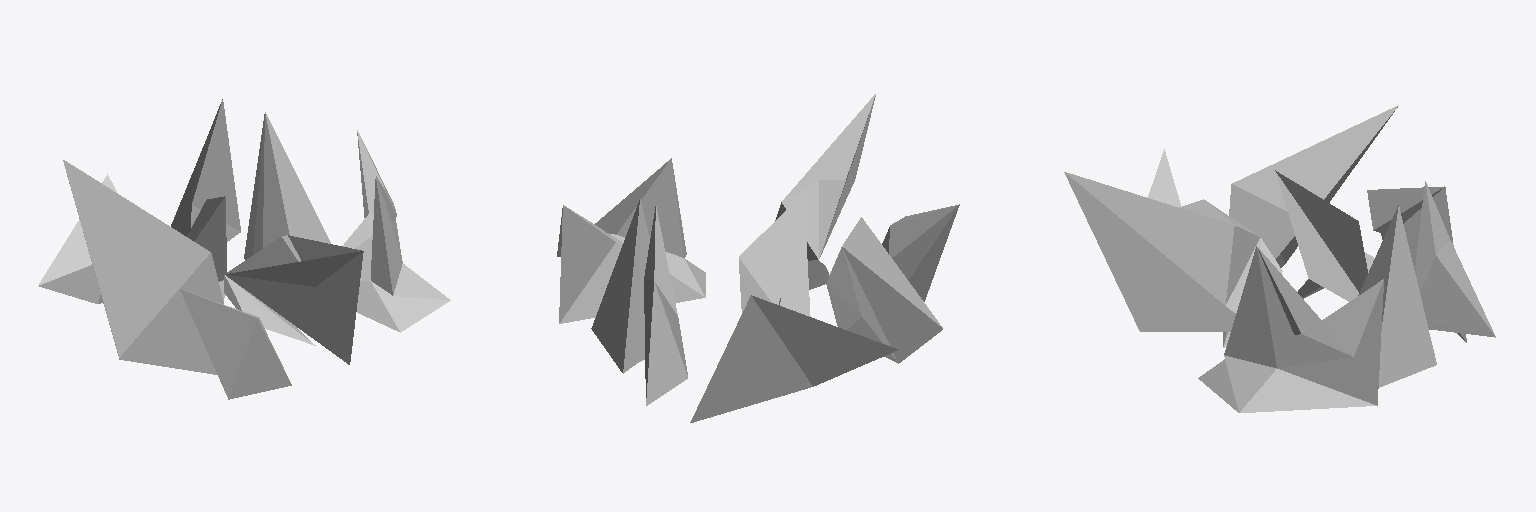
Rendered from glass_spikes.obj.
3 renders of one model, left to right at view 1: azimuth 30°, elevation 25°; view 2: azimuth 150°, elevation 25°; view 3: azimuth 270°, elevation 25°, orthographic.
Parts seen in each view (by area): view 1: Cube.007; view 2: Cube.007; view 3: Cube.007.
Boxes of the visible parts, box(x1,y1,x2,y2) form: Cube.007: box(38, 99, 450, 399); Cube.007: box(557, 94, 959, 422); Cube.007: box(1064, 105, 1495, 412).
Bounding box in the file's own units: 6.54 × 3.41 × 7.01.